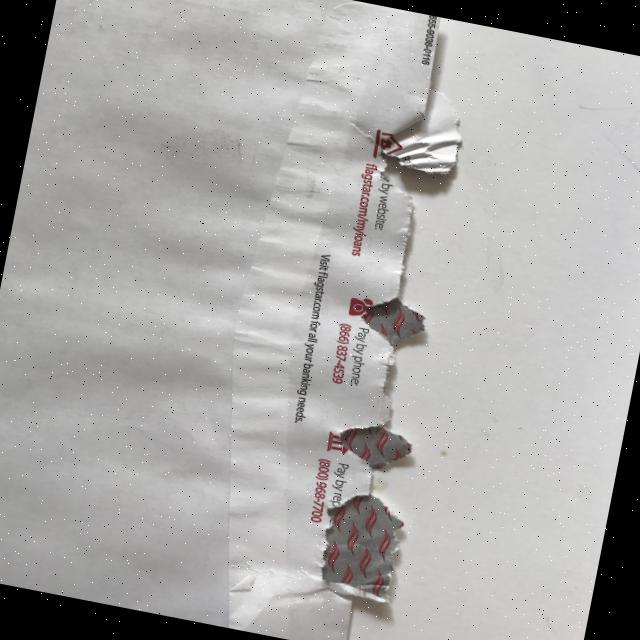paper: (0, 0, 640, 640), (179, 0, 499, 640)
